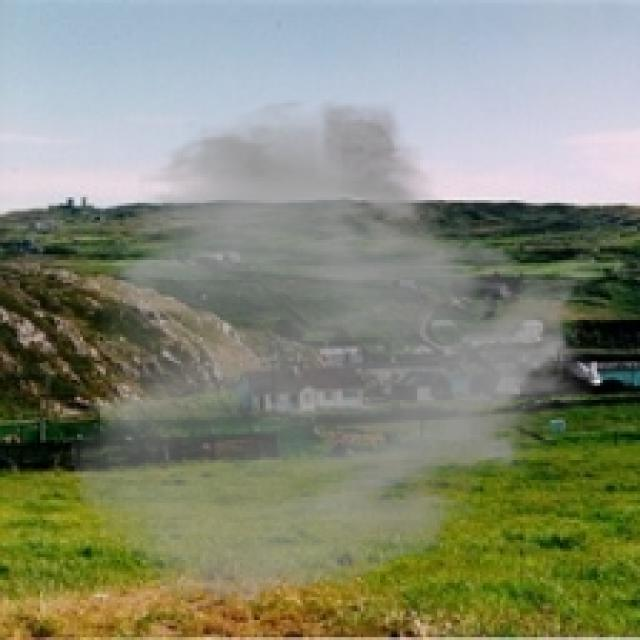smoke: (65, 95, 606, 614)
